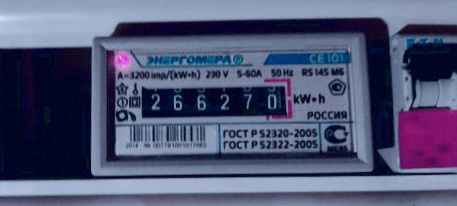0: (265, 90, 276, 110)
2: (148, 90, 162, 111), (218, 91, 230, 111)
6: (171, 92, 183, 112), (195, 91, 207, 110)
7: (241, 90, 253, 110)
screen: (128, 71, 301, 129)
